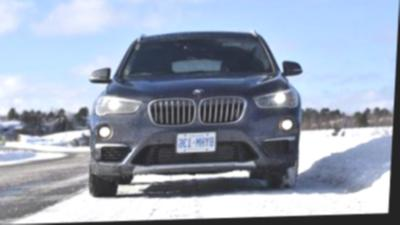License_Plate: (177, 131, 217, 153)
